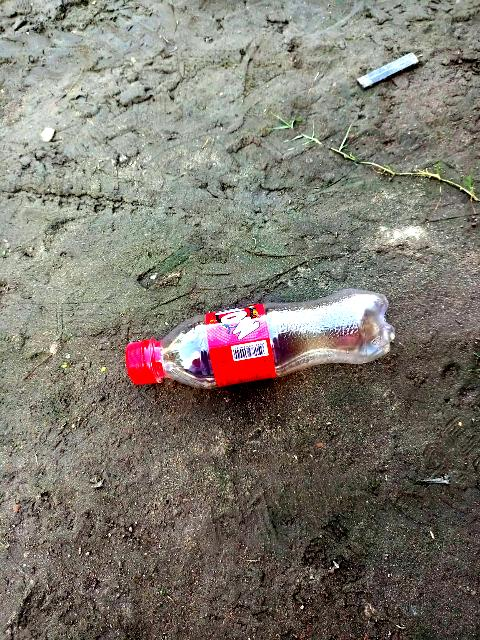bottle: (111, 278, 404, 405)
